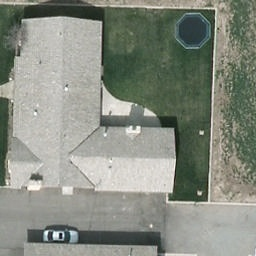car: (41, 229, 81, 243)
